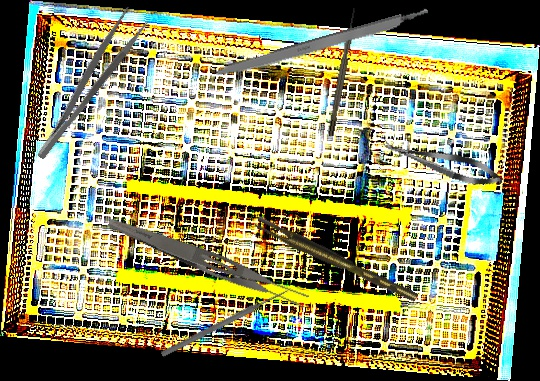Dressing Forceps: (103, 213, 312, 313), (22, 5, 151, 163)
Hook Surgical: (326, 7, 359, 137)
Micro Scissor: (379, 132, 506, 193)
Pusher: (159, 286, 292, 359)
Scalpel Handle: (212, 6, 431, 83)
Tissue Forceps: (253, 211, 419, 310)
